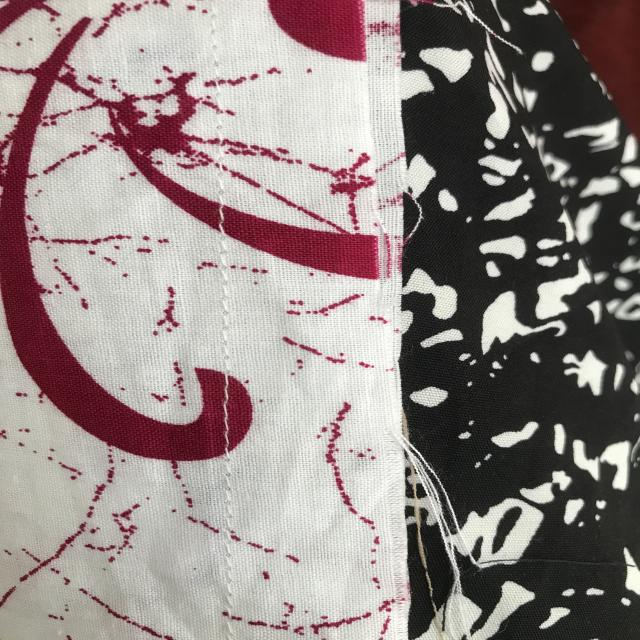good: (202, 249, 245, 359), (217, 466, 253, 532), (210, 376, 238, 442)
